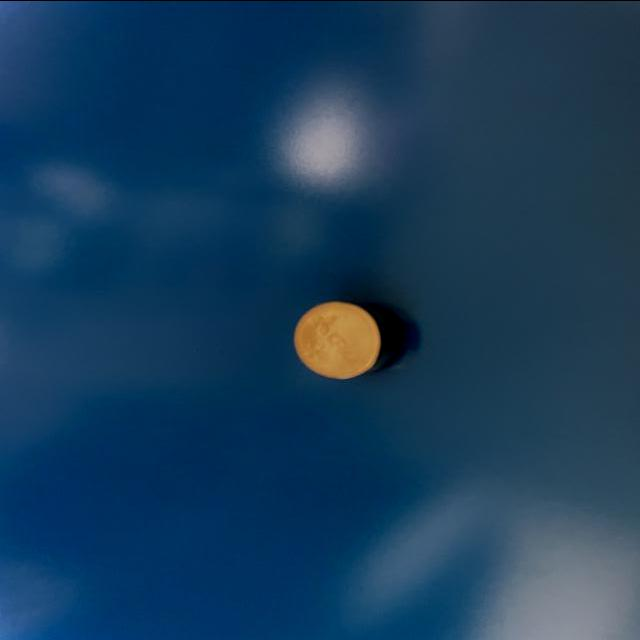COIN: (291, 300, 406, 380)
